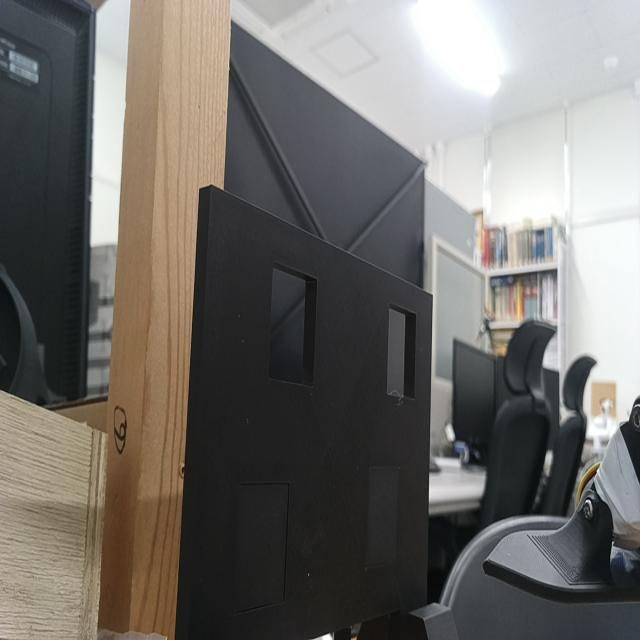Obstacle: (270, 263, 317, 384), (388, 304, 417, 396)
Wall: (187, 182, 434, 639)
